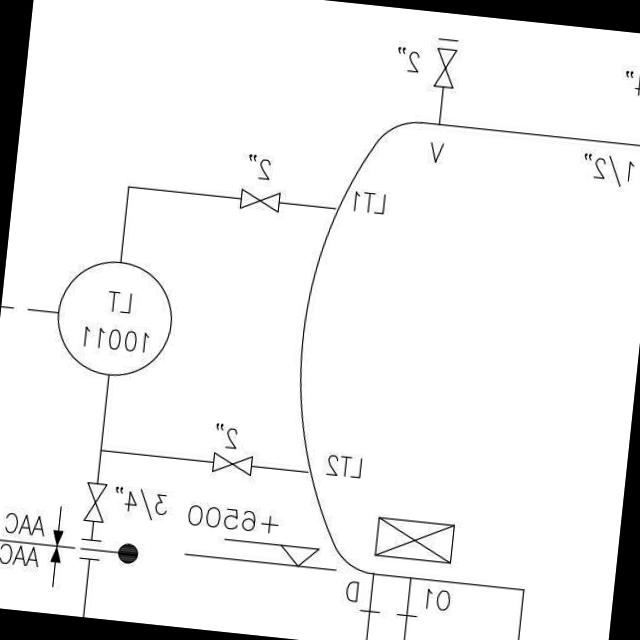GV: (78, 476, 110, 526), (206, 447, 256, 478), (236, 184, 284, 215), (431, 41, 457, 94)
